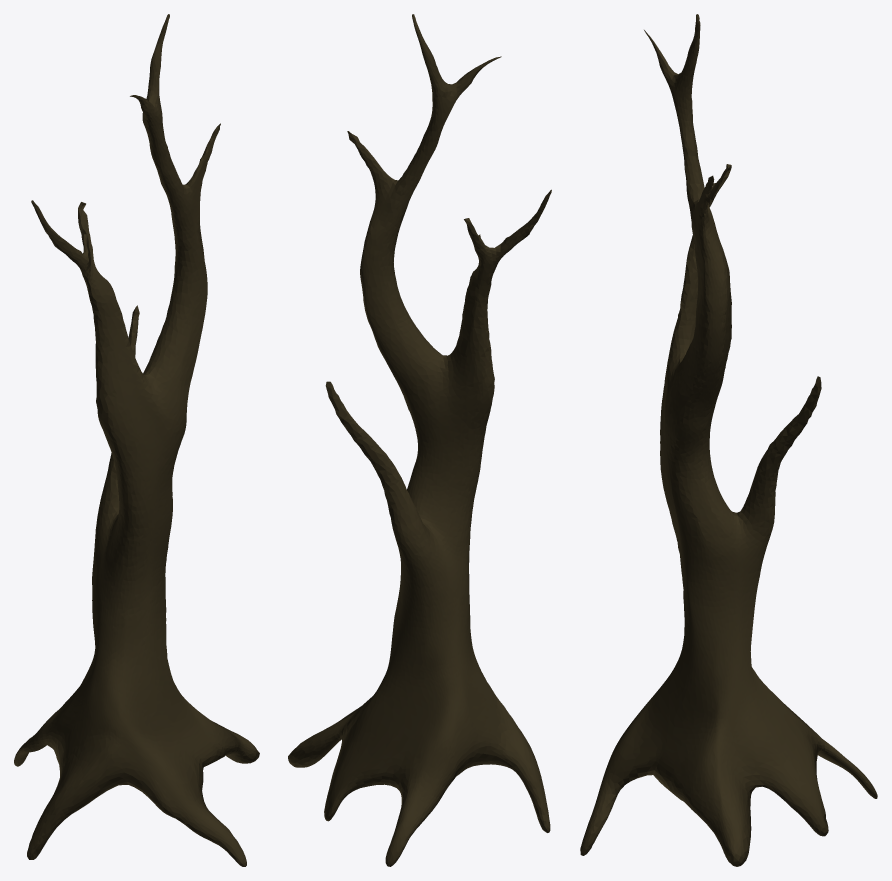
Rendered from Tree.fbx.
The picture shows the model from 3 angles, left to right: view 1: azimuth 30°, elevation 25°; view 2: azimuth 150°, elevation 25°; view 3: azimuth 270°, elevation 25°; orthographic projection. The views are drawn at different scales.
Visible parts, largest first — view 1: Quad Sphere; view 2: Quad Sphere; view 3: Quad Sphere.
Part boxes in pixels (x1,y1,x2,y2): Quad Sphere: (14, 14, 259, 866); Quad Sphere: (288, 14, 551, 866); Quad Sphere: (580, 14, 877, 866).
Size of the model in its own units: 345 by 1078 by 349.
